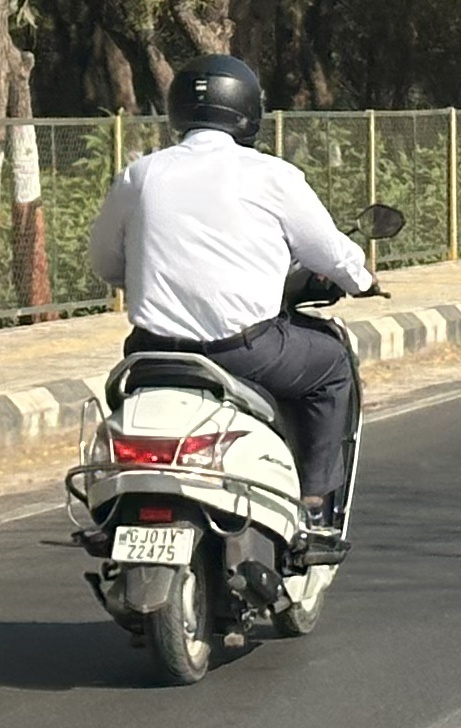BikeWithRider: (30, 44, 415, 691)
Helmet: (155, 46, 272, 154)
